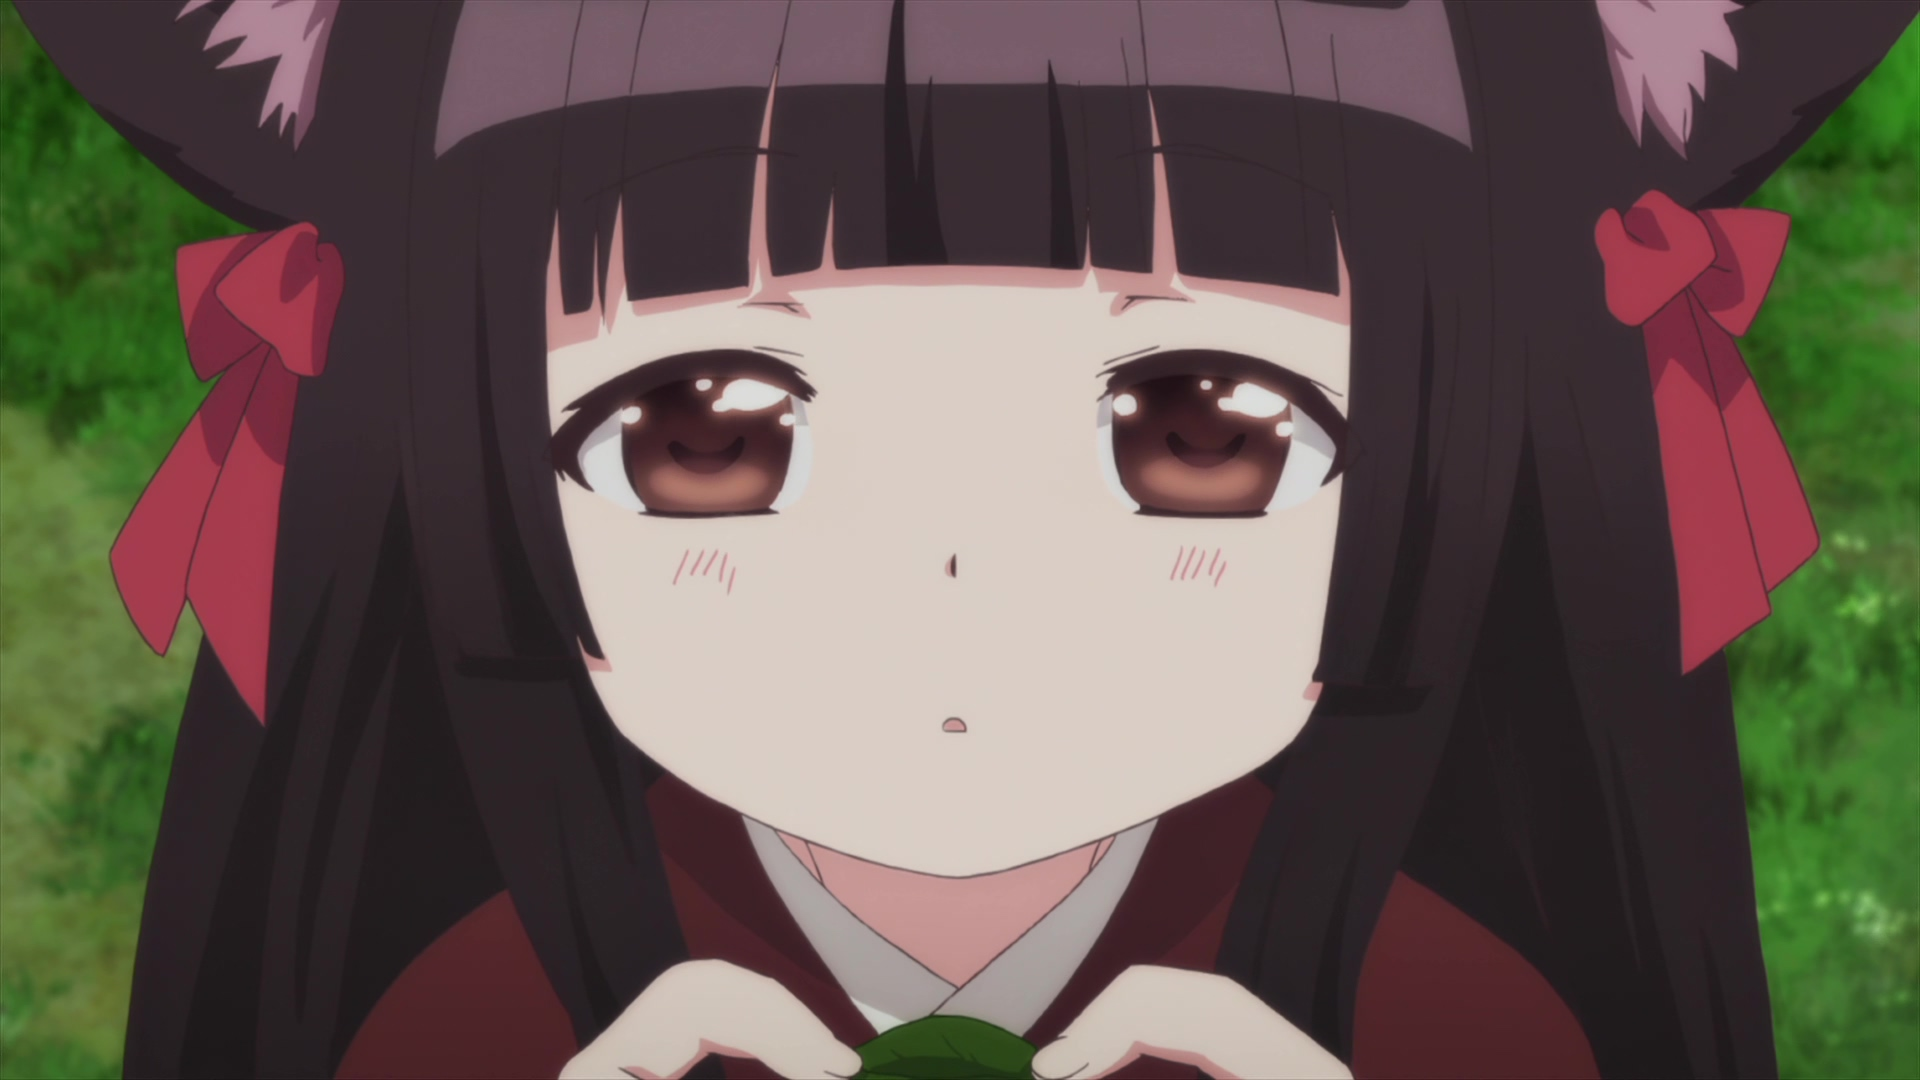樱: (7, 1, 1920, 1077)
